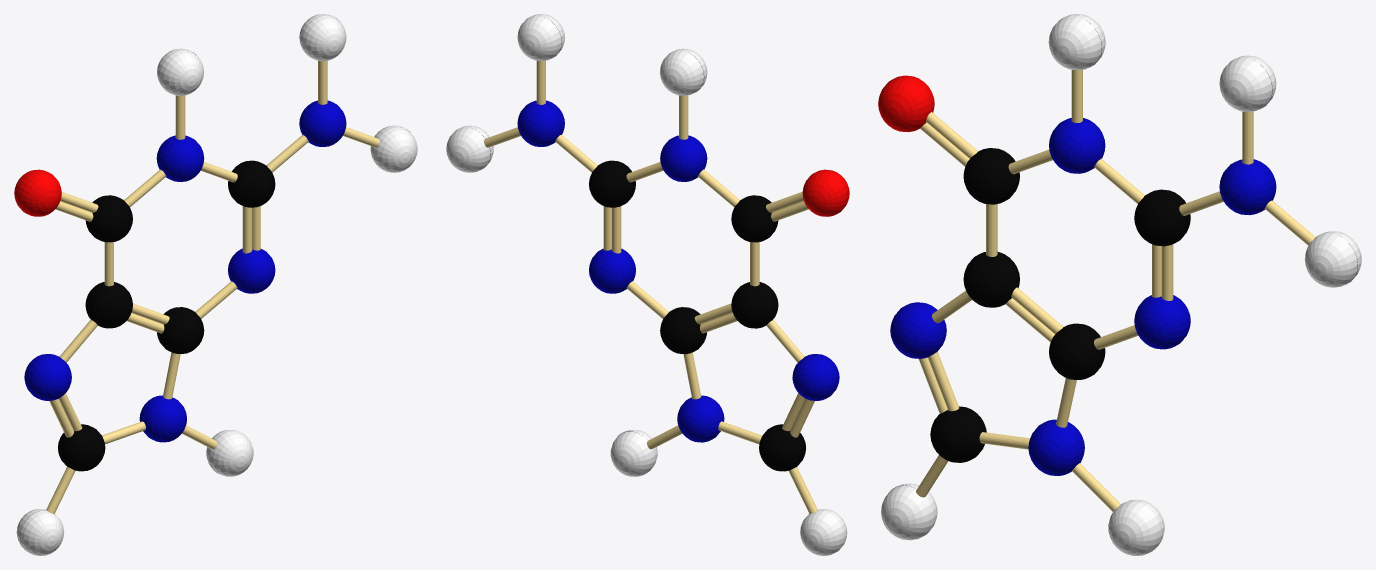
3 renders of one model, left to right at view 1: azimuth 30°, elevation 25°; view 2: azimuth 150°, elevation 25°; view 3: azimuth 330°, elevation 25°, orthographic. The views are drawn at different scales.
Visible parts, largest first — view 1: guanine; view 2: guanine; view 3: guanine.
Part boxes in pixels (x1,y1,x2,y2): guanine: [14, 14, 417, 555]; guanine: [446, 14, 849, 555]; guanine: [878, 14, 1361, 555].
Size of the model in its own units: 190 by 215 by 19.66.
